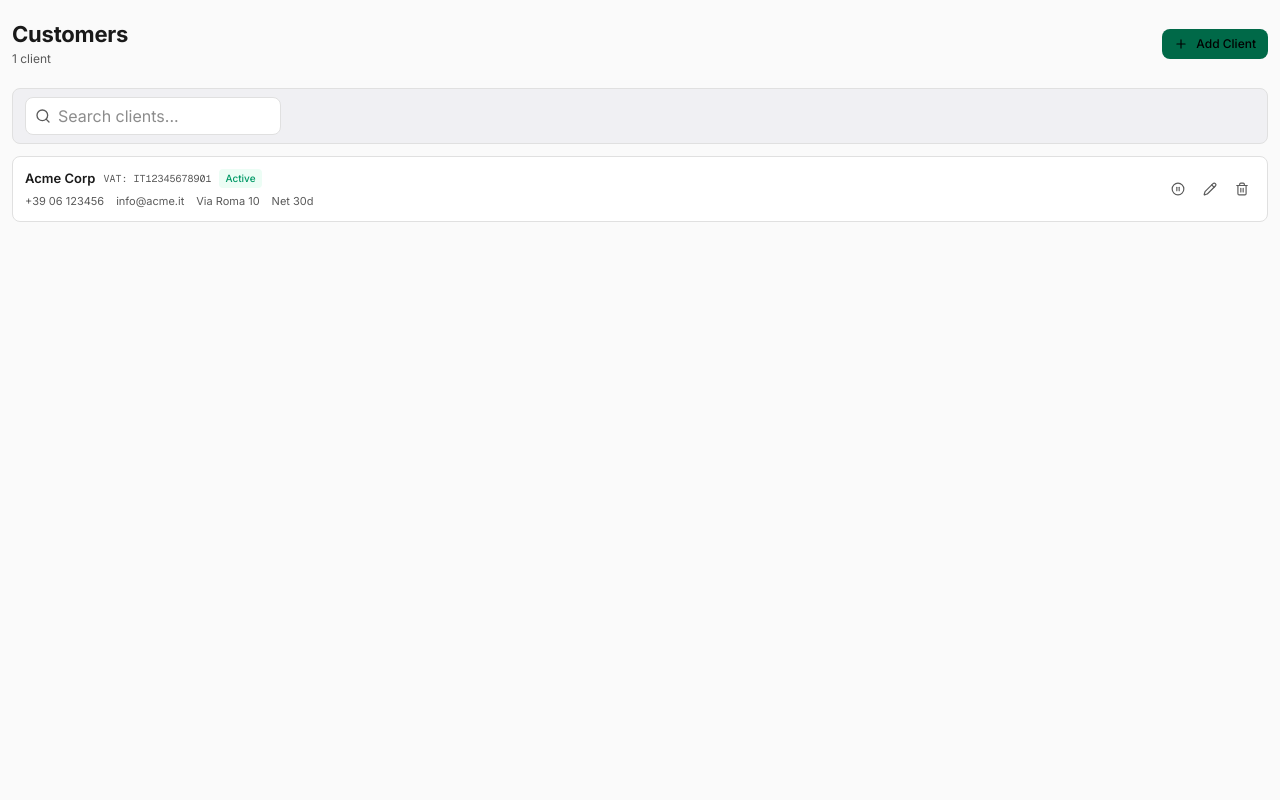
Test: ClientScreen › Pencil button opens edit modal with client data
This screenshot has width=1280, height=800.
Expected: the text "Acme Corp" is shown, [25,169,95,188]
Click the button named "Edit client": (1210, 189) [1197,176,1223,202]
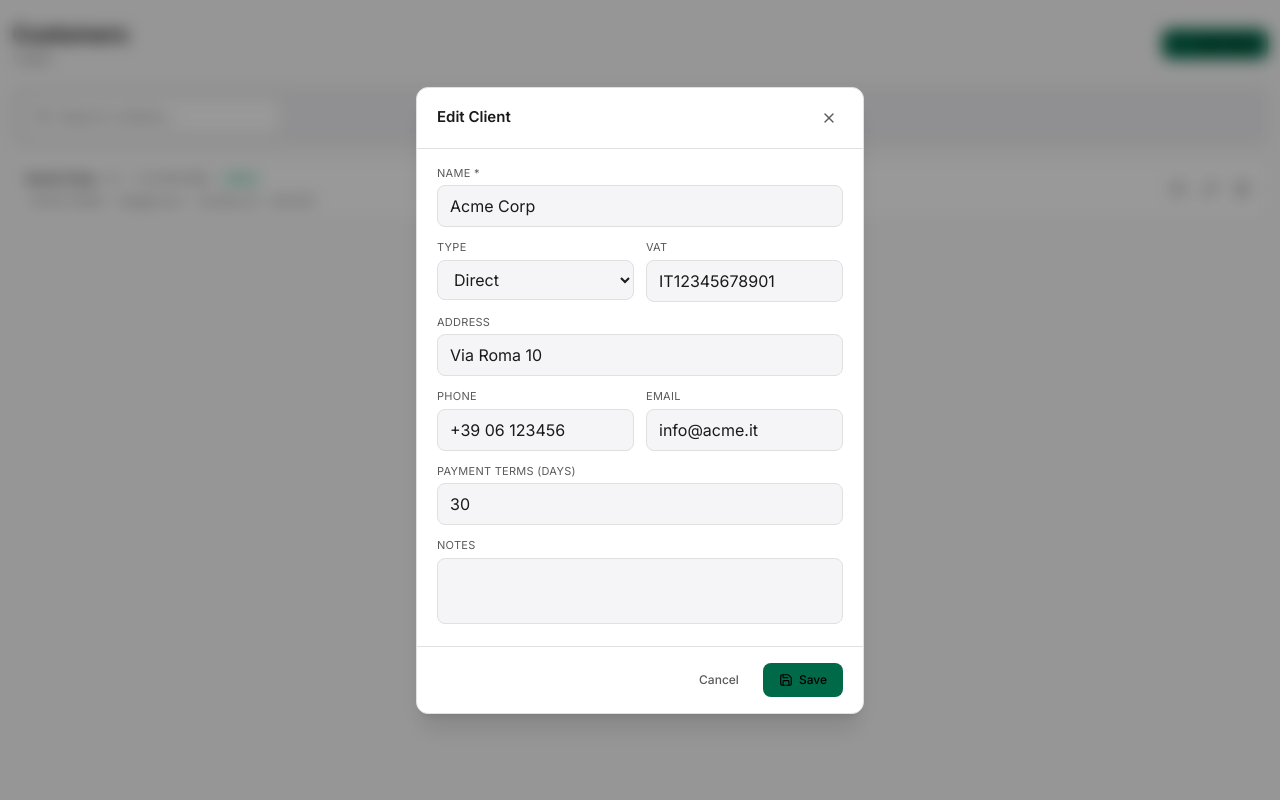
Expected: the heading "Edit Client" is shown, [437,106,511,129]
